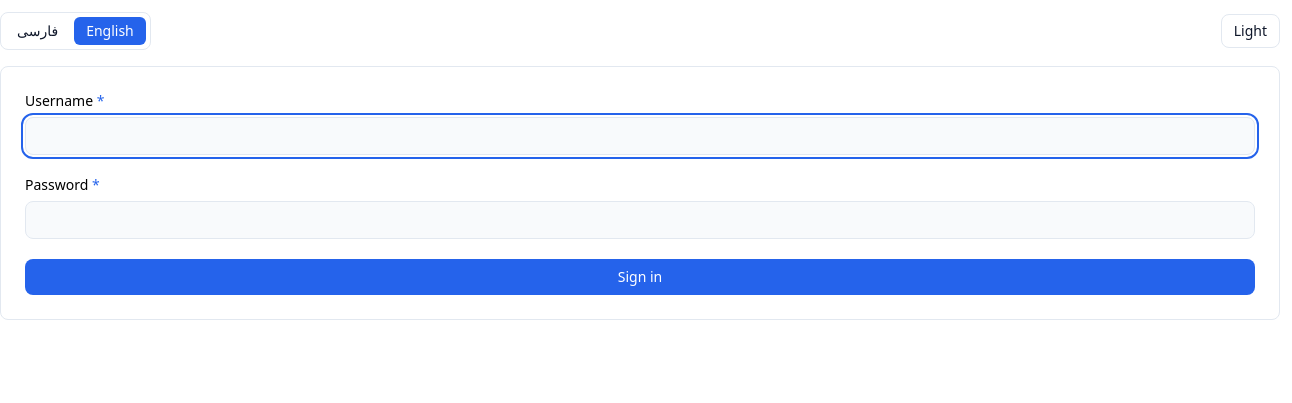
Test: network / server failure › shows the localized network message on a network ApiError
The width and height of the screenshot is (1292, 403).
In the field labelled "Username *": (640, 136) [25,117,1255,155], type "smoke-user"
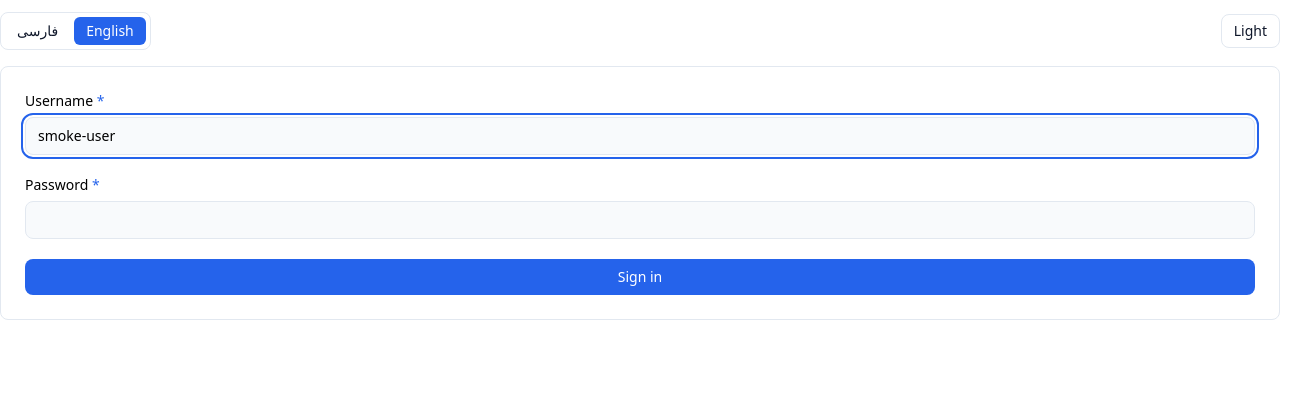
In the password field labelled "Password *": (640, 220) [25,201,1255,239], type "pass-1234"
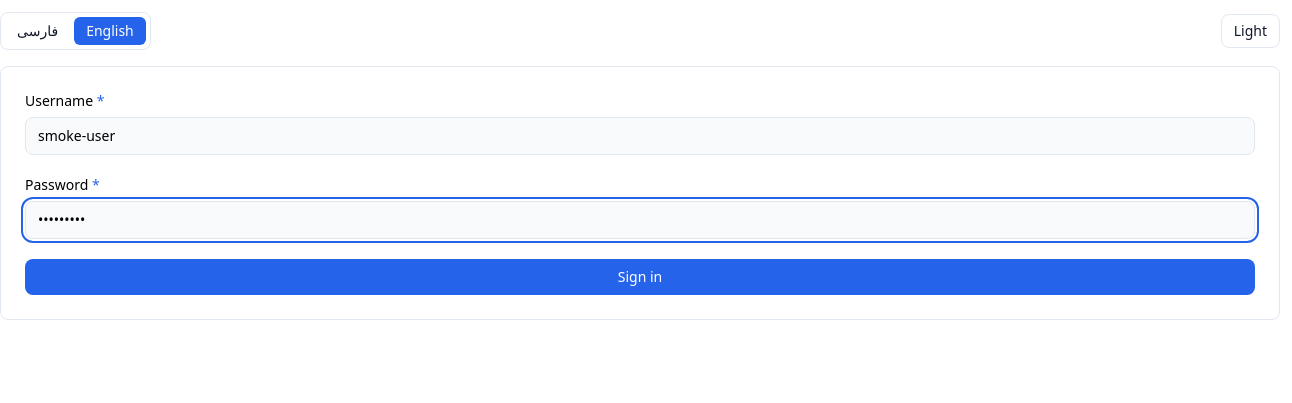
Click the button "Sign in": (640, 277) [25,259,1255,295]
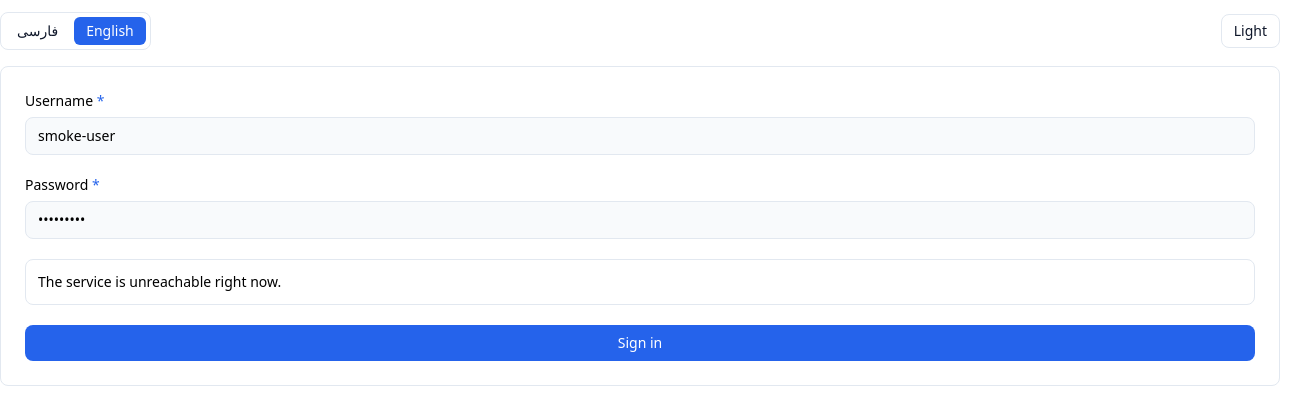
Expected: the message reads "The service is unreachable right now.", [38,272,281,291]
